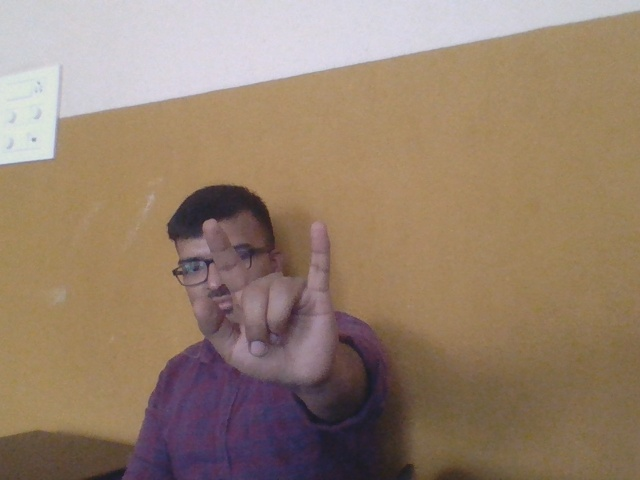I Love You: (185, 217, 348, 385)
